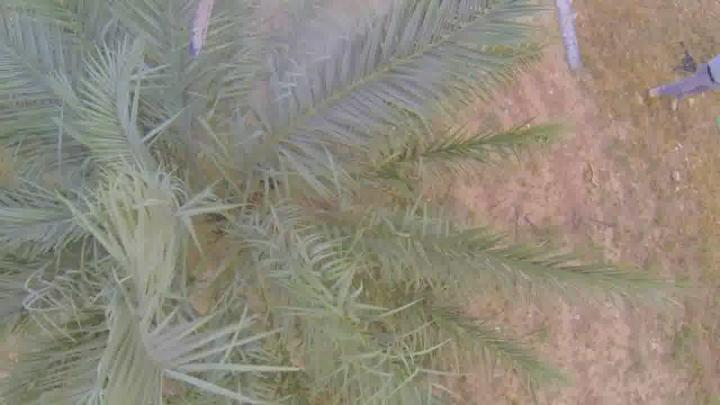Date-Palm-Crown: (5, 25, 427, 405)
